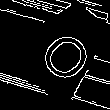O_NE: (29, 14, 97, 81)
